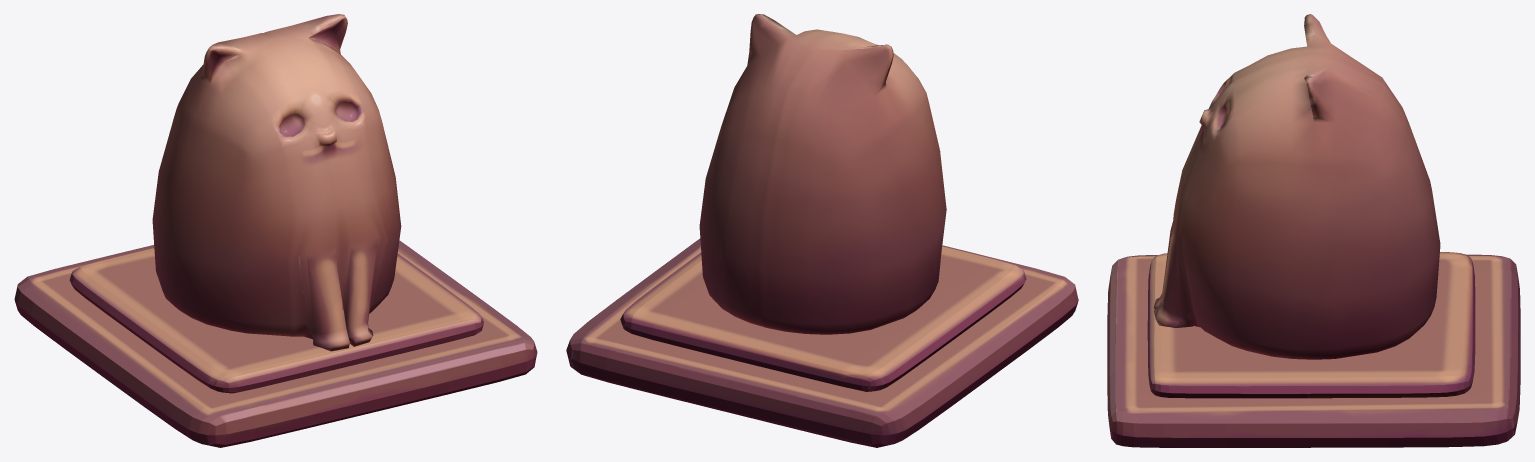
File: SM_Env_Statue_Cat_Basic.fbx
3 renders of one model, left to right at view 1: azimuth 30°, elevation 25°; view 2: azimuth 150°, elevation 25°; view 3: azimuth 270°, elevation 25°, orthographic. The views are drawn at different scales.
Parts seen in each view (by area): view 1: Cat_Statue, Plat; view 2: Cat_Statue, Plat; view 3: Cat_Statue, Plat.
Boxes of the visible parts, x1=… form: Cat_Statue: x1=152, y1=14, x2=401, y2=351; Plat: x1=14, y1=240, x2=537, y2=447; Cat_Statue: x1=699, y1=14, x2=946, y2=334; Plat: x1=566, y1=238, x2=1078, y2=447; Cat_Statue: x1=1153, y1=14, x2=1440, y2=359; Plat: x1=1107, y1=252, x2=1520, y2=447.
Size of the model in its own units: 47.39 by 40.88 by 47.58.
Materials: 2 (2 with a texture image).
